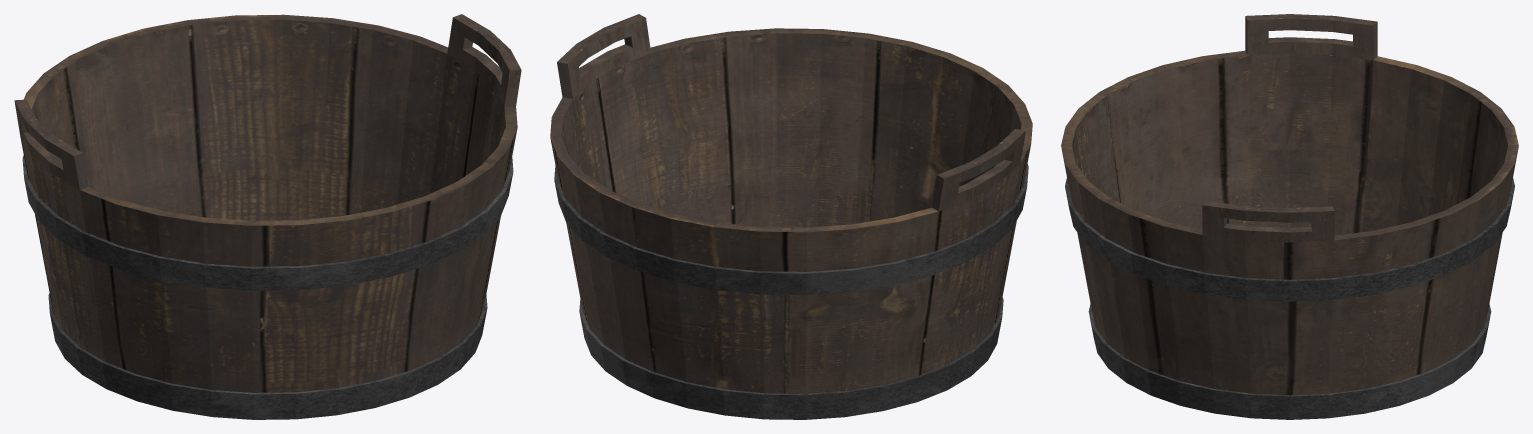
The model's file is balde.glb.
The picture shows the model from 3 angles, left to right: view 1: azimuth 30°, elevation 25°; view 2: azimuth 150°, elevation 25°; view 3: azimuth 270°, elevation 25°; orthographic projection. The views are drawn at different scales.
Parts seen in each view (by area): view 1: Balde; view 2: Balde; view 3: Balde.
Part boxes in pixels (left/top/right/bottom): Balde: left=14, top=14, right=521, bottom=419; Balde: left=550, top=14, right=1032, bottom=419; Balde: left=1061, top=14, right=1518, bottom=419.
Size of the model in its own units: 5.35 by 2.8 by 5.21.
2 materials, 2 textured.
